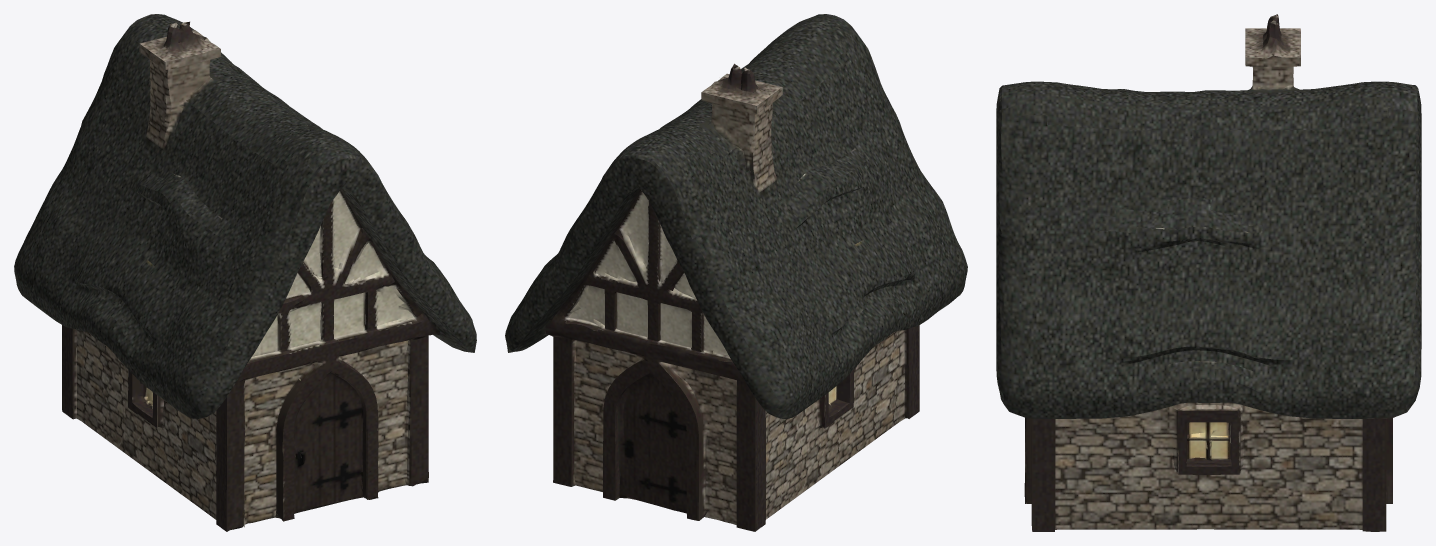
The model's file is ok-farm-cottage-pixelated.glb.
3 views of the same model, side by side, from view 1: azimuth 30°, elevation 25°; view 2: azimuth 150°, elevation 25°; view 3: azimuth 270°, elevation 25° (orthographic). The views are drawn at different scales.
Parts seen in each view (by area): view 1: 0; view 2: 0; view 3: 0.
Part boxes in pixels (<box>): 0: <box>14,14,476,531</box>; 0: <box>505,14,967,531</box>; 0: <box>996,14,1421,531</box>.
Bounding box in the file's own units: 1.44 × 1.9 × 1.65.
Materials: 1 (1 with a texture image).
